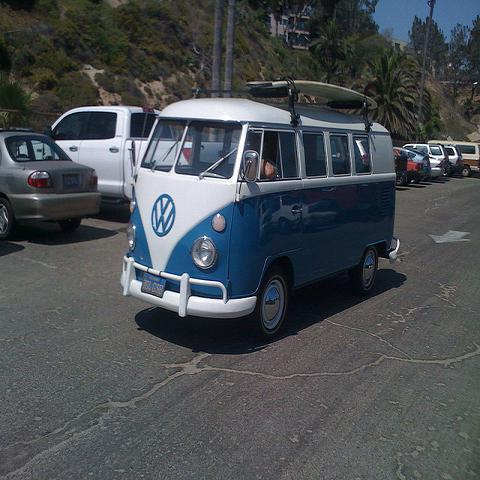bus: (117, 80, 401, 338)
car: (0, 132, 102, 237), (427, 140, 479, 179), (402, 143, 451, 171), (393, 147, 433, 179), (393, 150, 425, 184), (443, 144, 463, 174), (430, 154, 444, 179)
truck: (47, 105, 155, 202)
